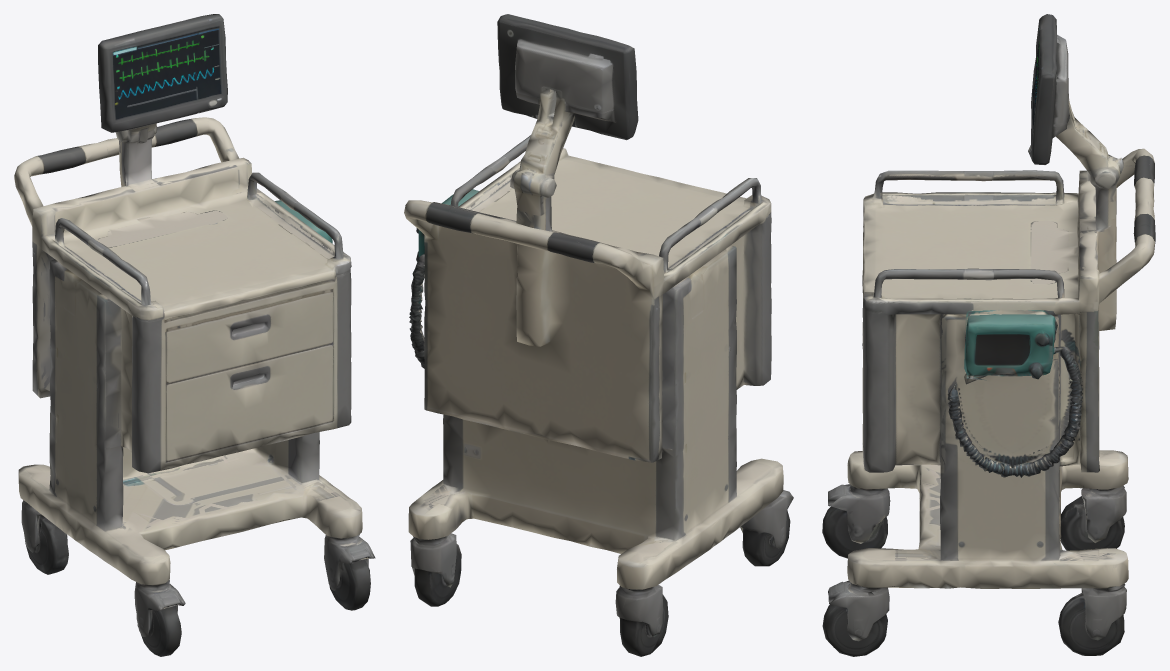
File: DiagnosticCart.glb
3 views of the same model, side by side, from view 1: azimuth 30°, elevation 25°; view 2: azimuth 150°, elevation 25°; view 3: azimuth 270°, elevation 25° (orthographic). The views are drawn at different scales.
Visible parts, largest first — view 1: texture_mapping; view 2: texture_mapping; view 3: texture_mapping.
Part boxes in pixels (bbox=[...]): texture_mapping: bbox=[14, 14, 375, 656]; texture_mapping: bbox=[404, 14, 793, 656]; texture_mapping: bbox=[822, 14, 1155, 656].
Bounding box in the file's own units: 0.5013 × 1 × 0.5388.
Materials: 1 (1 with a texture image).
